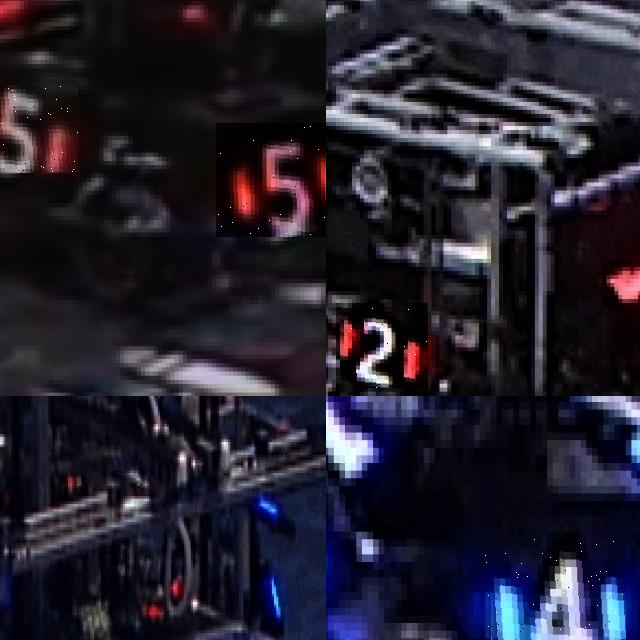B4: (485, 539, 625, 640)
R2: (336, 303, 428, 388)
R5: (216, 123, 326, 236), (0, 72, 78, 173)
